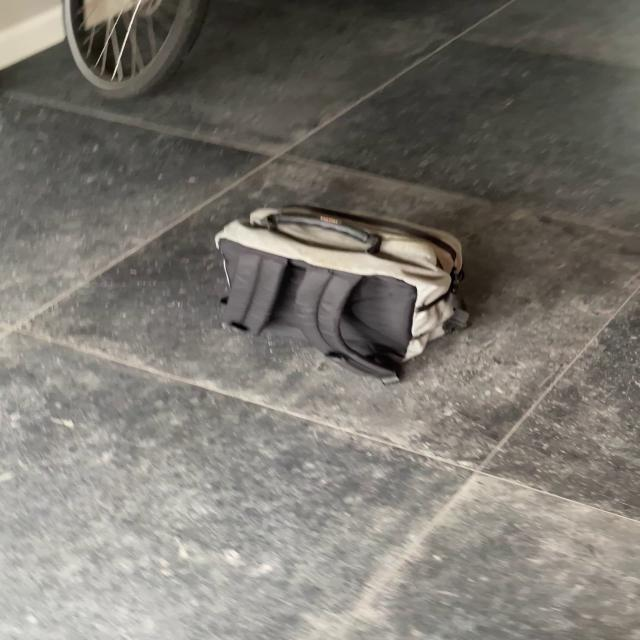backpack: (205, 198, 476, 378)
